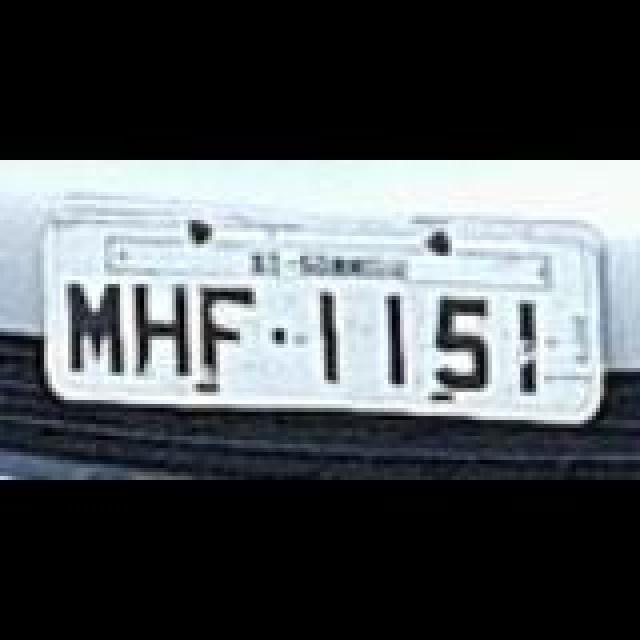1: (516, 302, 548, 402), (388, 292, 412, 388), (316, 292, 340, 388)
5: (434, 296, 494, 392)
F: (198, 288, 258, 384)
H: (136, 284, 192, 380)
M: (68, 280, 124, 376)
